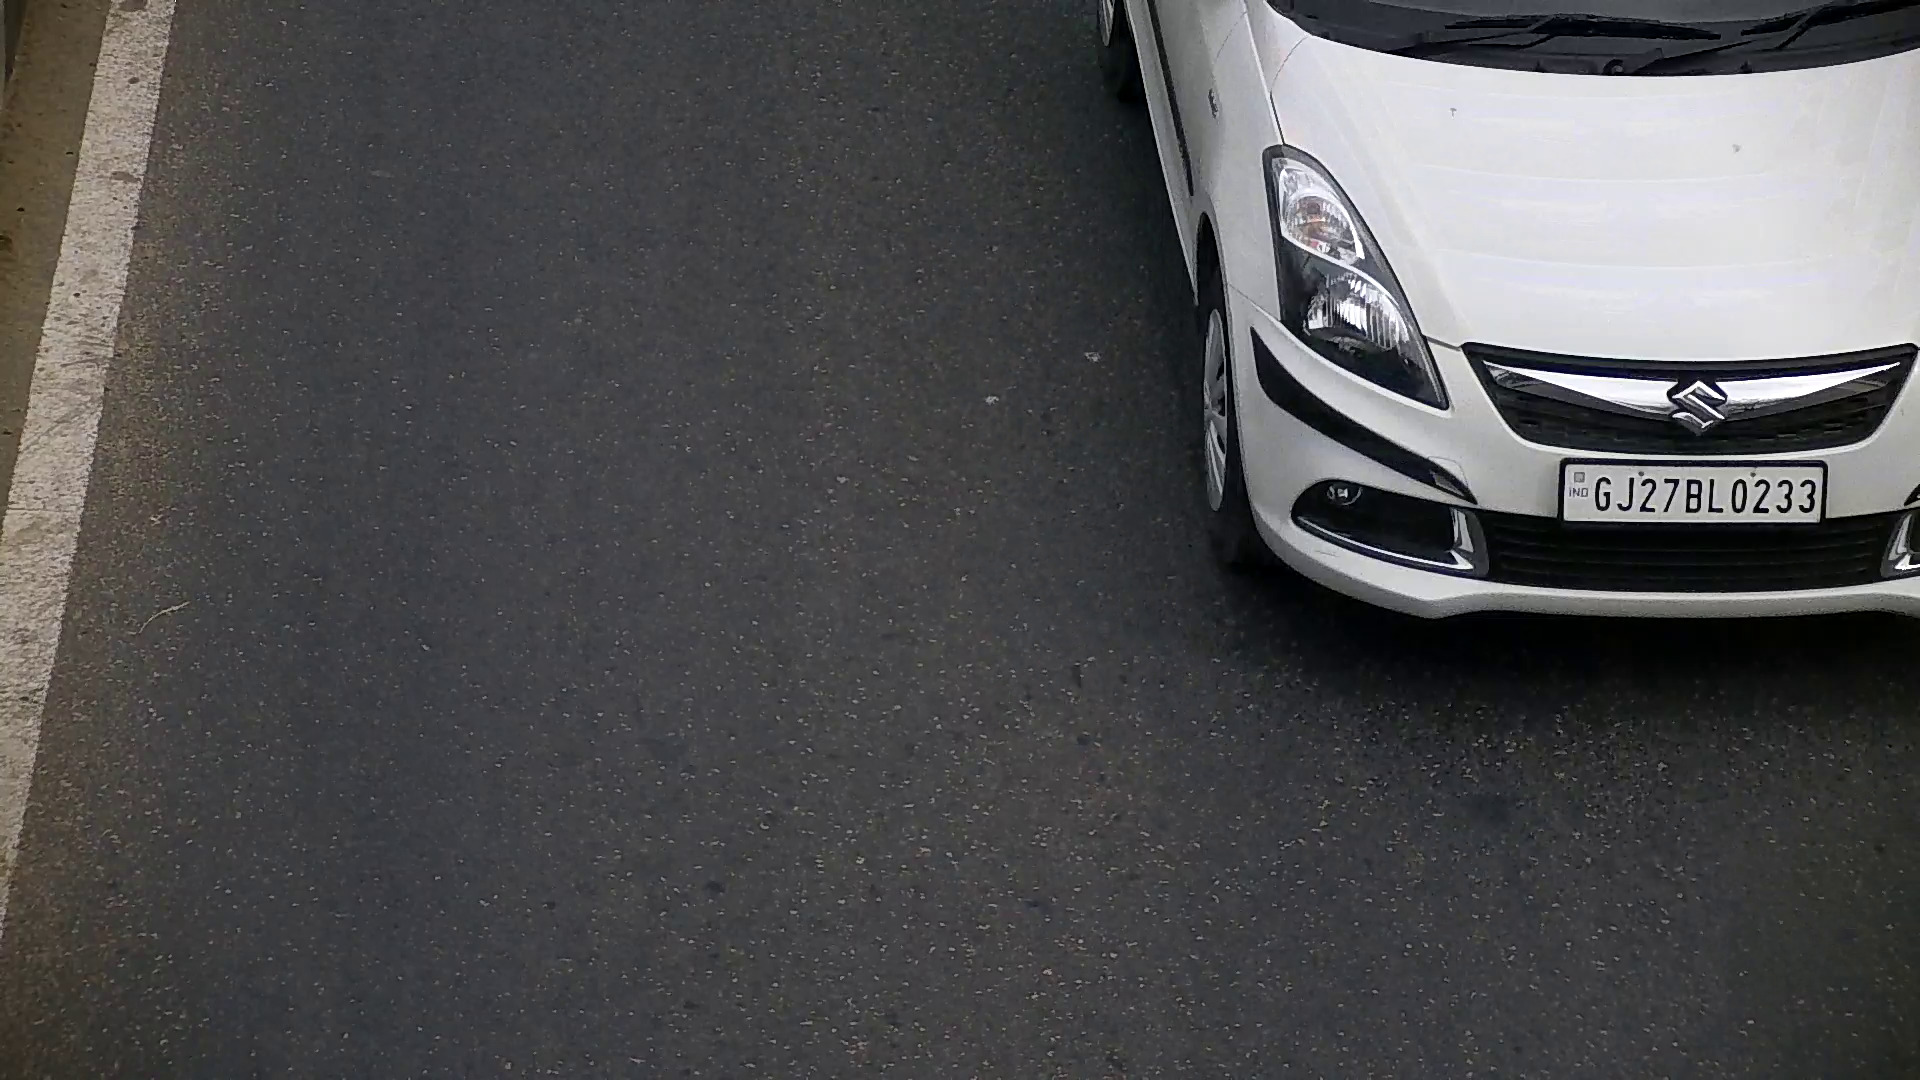numberplate: (1554, 456, 1833, 521)
